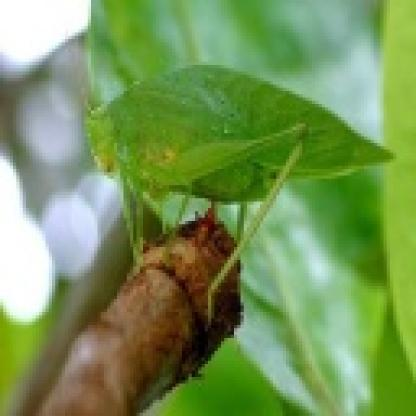grasshopper: (67, 65, 384, 236)
